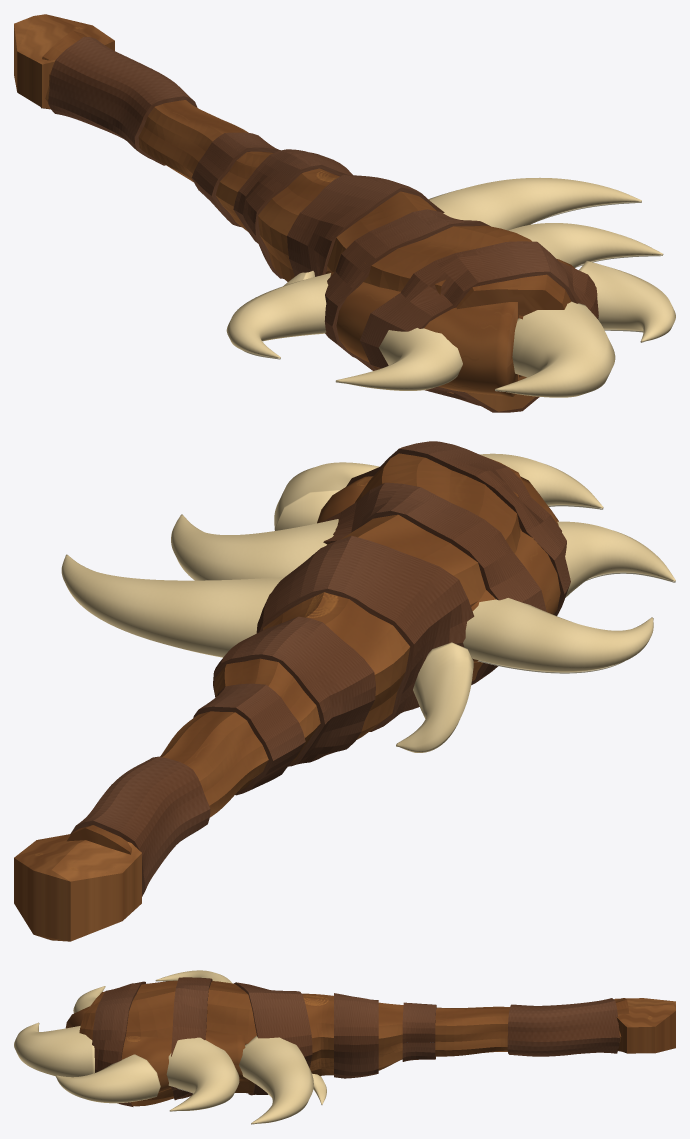
File: tusk_club.glb
3 renders of one model, top to bottom at view 1: azimuth 30°, elevation 25°; view 2: azimuth 150°, elevation 25°; view 3: azimuth 270°, elevation 25°, orthographic. The views are drawn at different scales.
Parts seen in each view (by area): view 1: tusk_club_game_mesh; view 2: tusk_club_game_mesh; view 3: tusk_club_game_mesh.
Part boxes in pixels (<box>): tusk_club_game_mesh: <box>14,14,675,412</box>; tusk_club_game_mesh: <box>14,441,675,941</box>; tusk_club_game_mesh: <box>14,970,675,1124</box>.
Size of the model in its own units: 0.5866 by 0.2027 by 1.1.
1 material, 1 textured.
